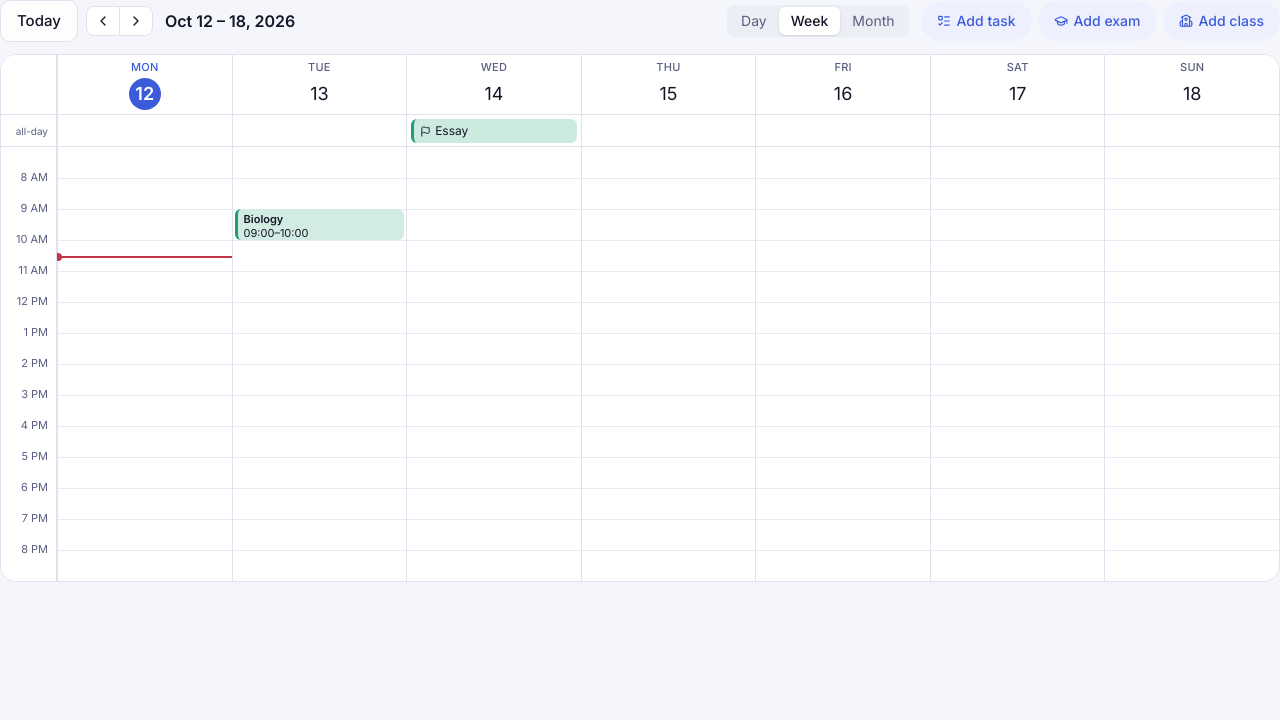
Test case: CalendarView › adding › Add task opens a plain task dialog
Click the button "Add task".
click(976, 21)  # box 920,1 -> 1032,41
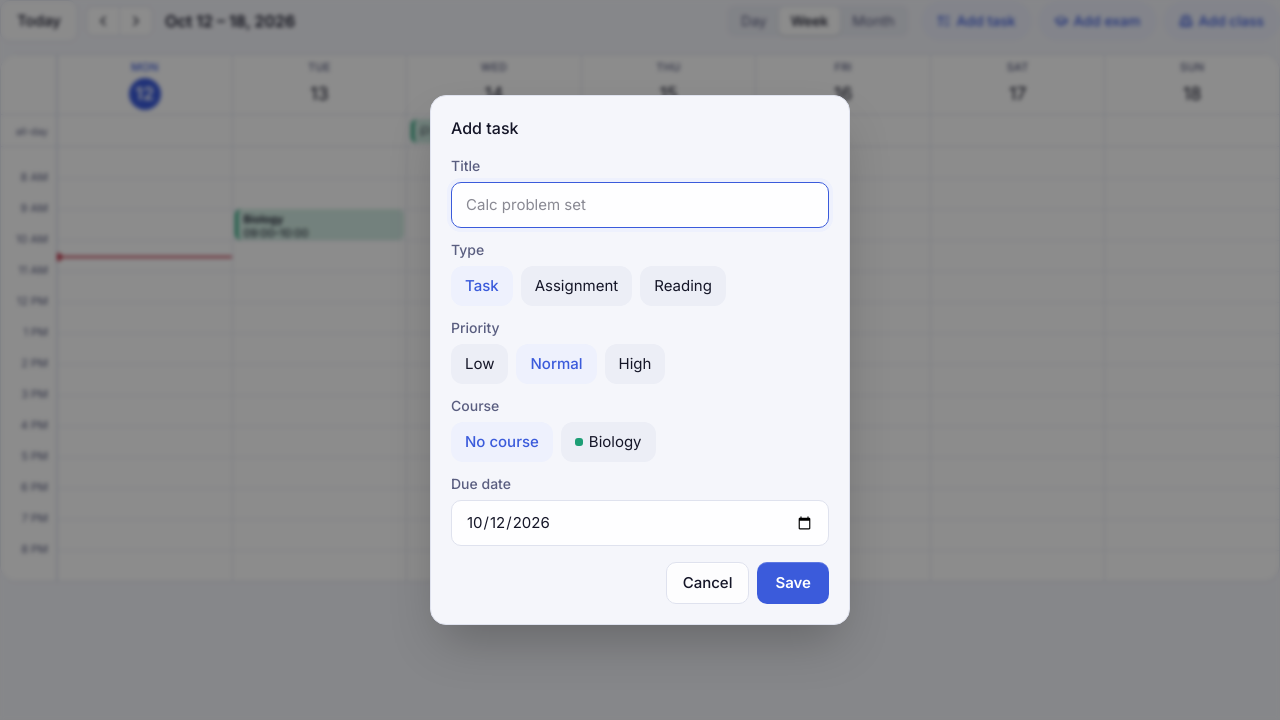
Expected: the heading "Add task" is shown, 451,118 -> 518,138
